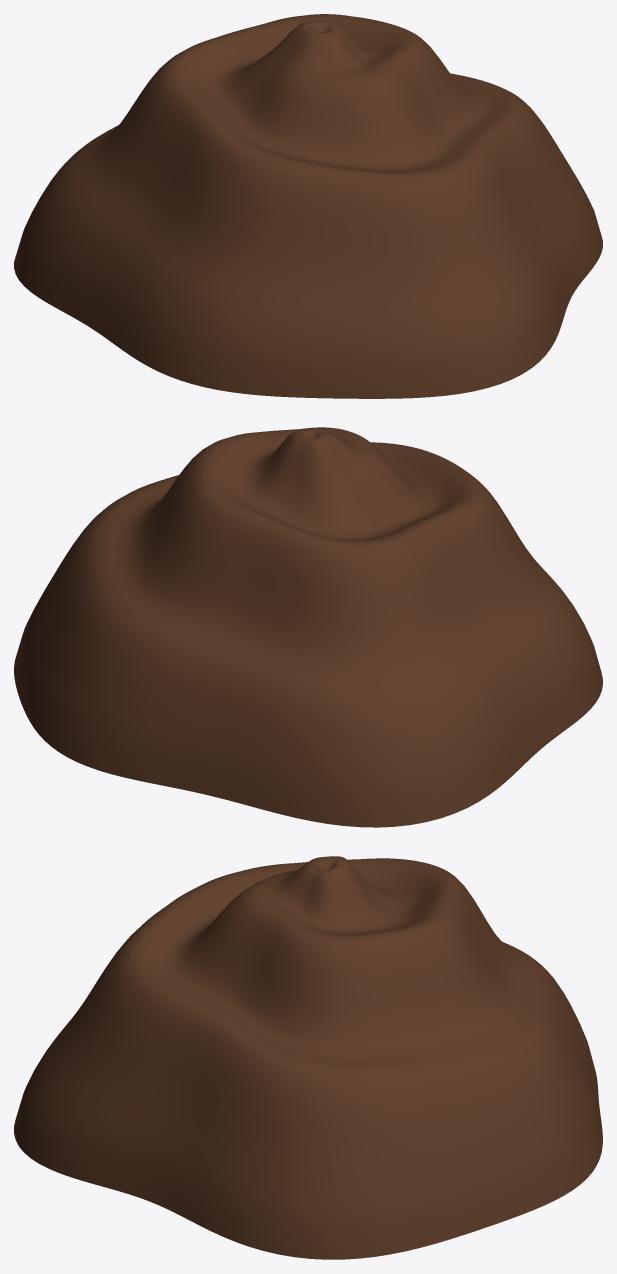
The model's file is nutella.glb.
The picture shows the model from 3 angles, top to bottom: view 1: azimuth 30°, elevation 25°; view 2: azimuth 150°, elevation 25°; view 3: azimuth 270°, elevation 25°; orthographic projection. The views are drawn at different scales.
Parts seen in each view (by area): view 1: nutella_0; view 2: nutella_0; view 3: nutella_0.
Boxes of the visible parts, bbox=[...] form: nutella_0: bbox=[14, 14, 602, 398]; nutella_0: bbox=[14, 427, 602, 827]; nutella_0: bbox=[14, 856, 602, 1259].
Size of the model in its own units: 0.5451 by 0.2692 by 0.5417.
